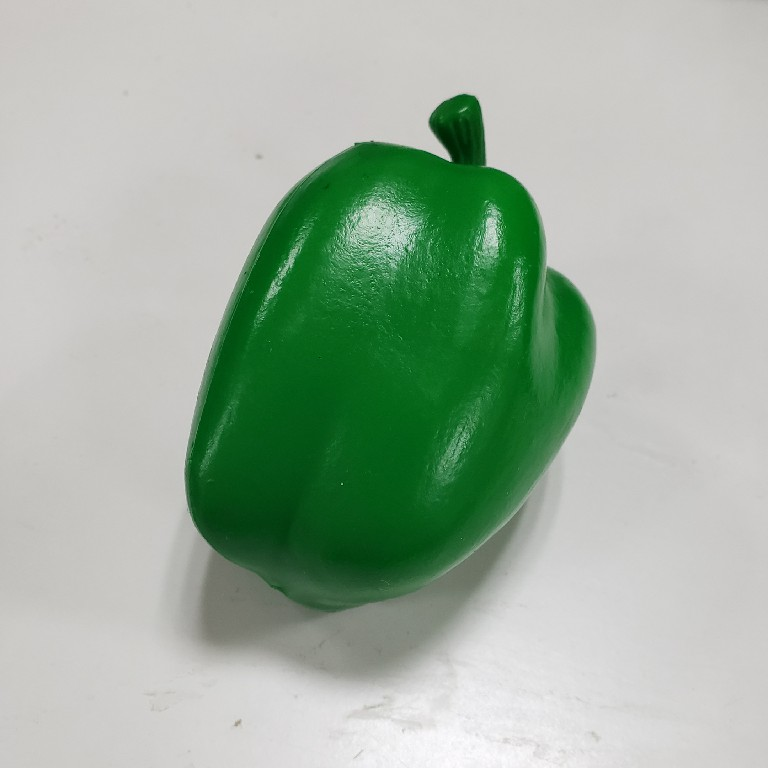fruit_pepper: (181, 90, 602, 615)
